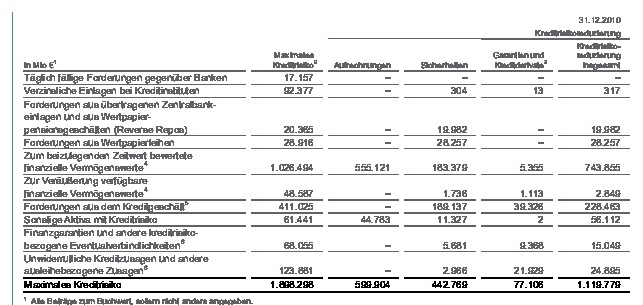table: (0, 0, 643, 305)
